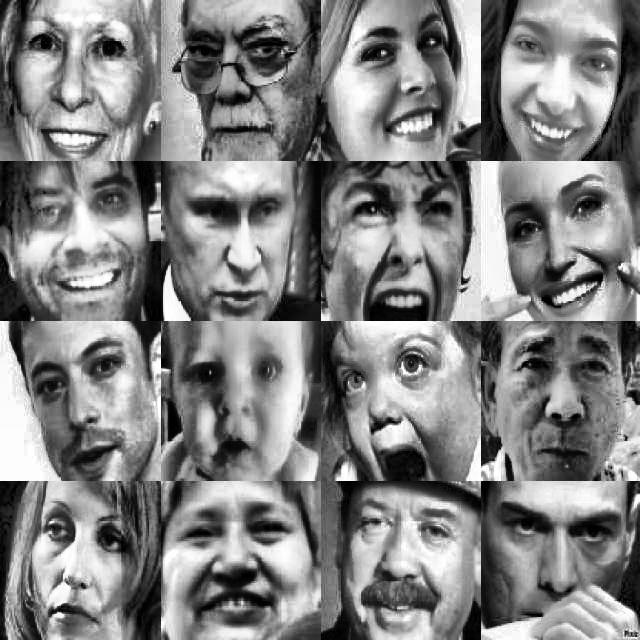angry: (492, 490, 626, 624), (174, 12, 303, 150), (181, 175, 295, 313)
fear: (336, 172, 467, 318), (331, 331, 463, 475), (174, 337, 296, 477)
happy: (497, 171, 631, 319), (16, 12, 142, 161), (172, 495, 301, 633), (15, 167, 138, 311), (342, 7, 456, 151), (505, 14, 621, 152), (344, 499, 462, 633)
neutral: (18, 328, 141, 477), (504, 327, 622, 476)
sad: (29, 495, 138, 633)
